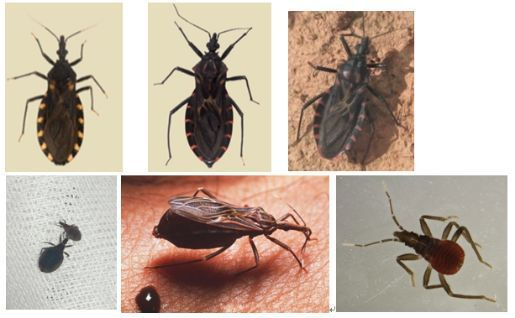chunchong: (149, 190, 312, 280), (169, 16, 254, 169), (301, 30, 400, 160), (378, 200, 495, 308), (18, 26, 102, 167), (34, 221, 78, 282)
